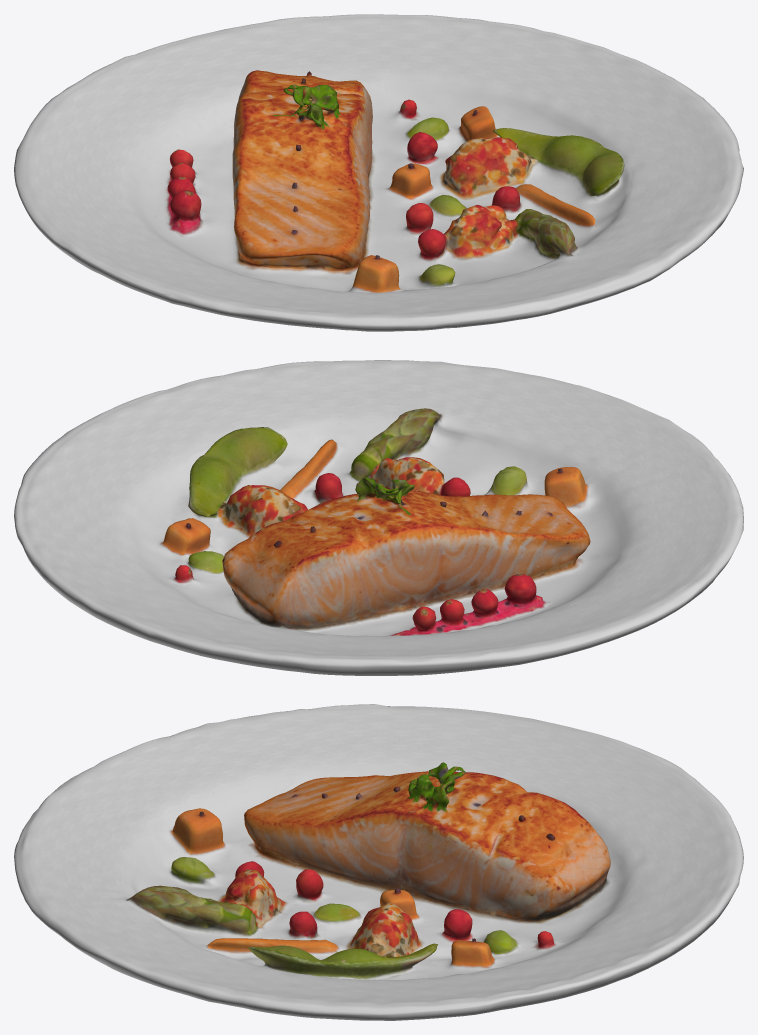
Rendered from 05_Gastro_salmon.glb.
The picture shows the model from 3 angles, top to bottom: view 1: azimuth 30°, elevation 25°; view 2: azimuth 150°, elevation 25°; view 3: azimuth 270°, elevation 25°; orthographic projection.
Visible parts, largest first — view 1: Final; view 2: Final; view 3: Final.
Boxes of the visible parts, bbox=[...] form: Final: bbox=[14, 14, 743, 331]; Final: bbox=[14, 360, 743, 675]; Final: bbox=[14, 704, 743, 1020].
Bounding box in the file's own units: 0.1989 × 0.0366 × 0.1984.
Materials: 1 (1 with a texture image).
